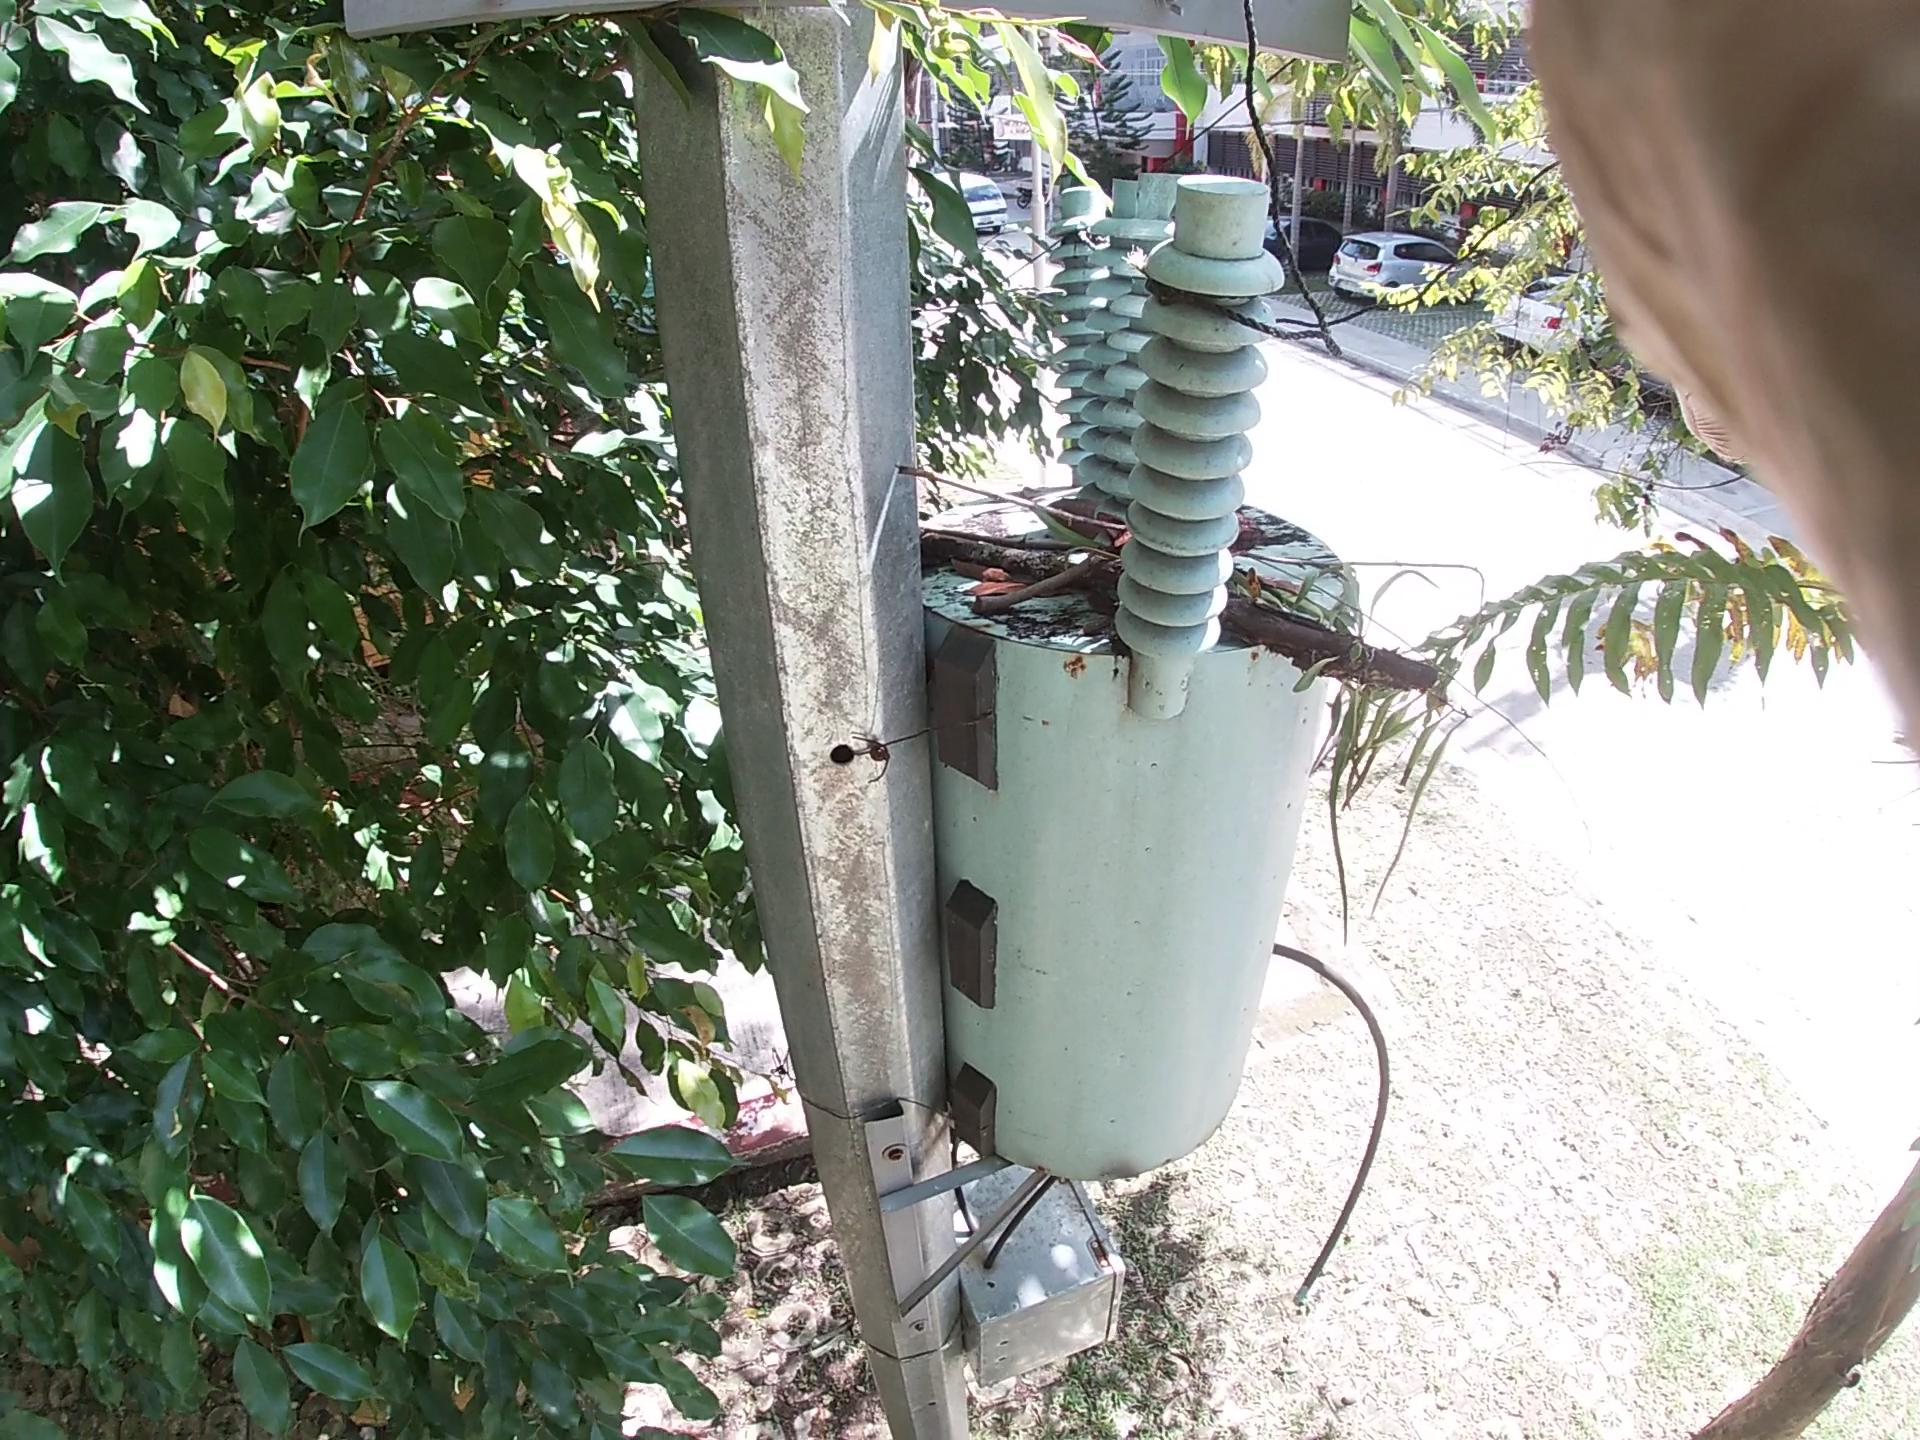branch with leaves: (925, 511, 1494, 755)
leaf: (945, 545, 1034, 604)
mahogany fruit: (1037, 473, 1132, 601)
tree branch: (901, 452, 1491, 629), (968, 535, 1089, 626), (980, 473, 1147, 522)
